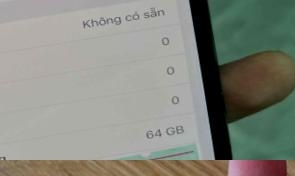scratch: (102, 167, 295, 176)
